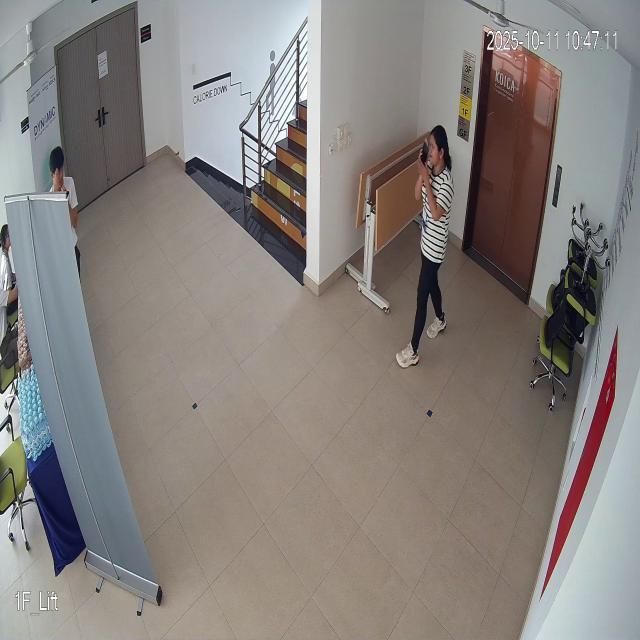face: (421, 122, 452, 176)
